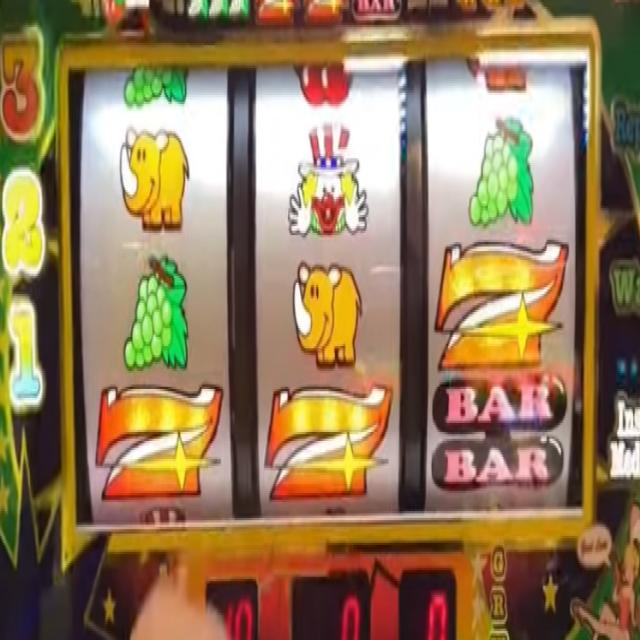bar: (433, 376, 567, 492), (352, 0, 401, 20)
cherry: (292, 63, 352, 105)
clown: (286, 120, 368, 243)
display: (68, 57, 586, 514)
elephant: (119, 125, 192, 232), (292, 260, 363, 362)
grape: (124, 250, 188, 371), (467, 115, 534, 230), (121, 67, 189, 105)
z: (436, 244, 568, 364), (94, 382, 221, 498), (265, 389, 391, 496)
